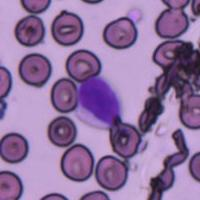L: (75, 73, 123, 129)
